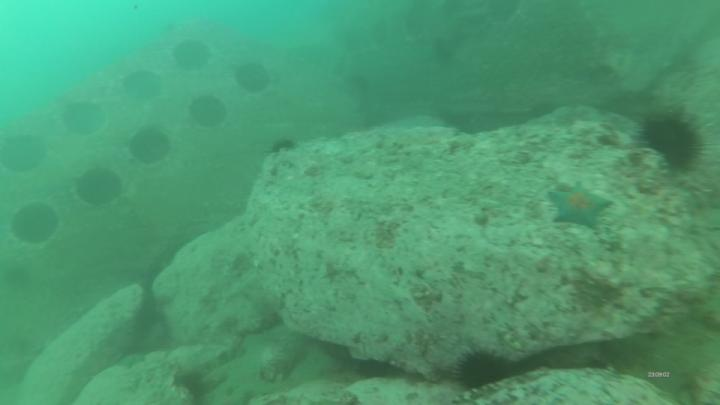echinus: (642, 111, 704, 176), (451, 347, 513, 391)
starfish: (549, 180, 616, 234)
